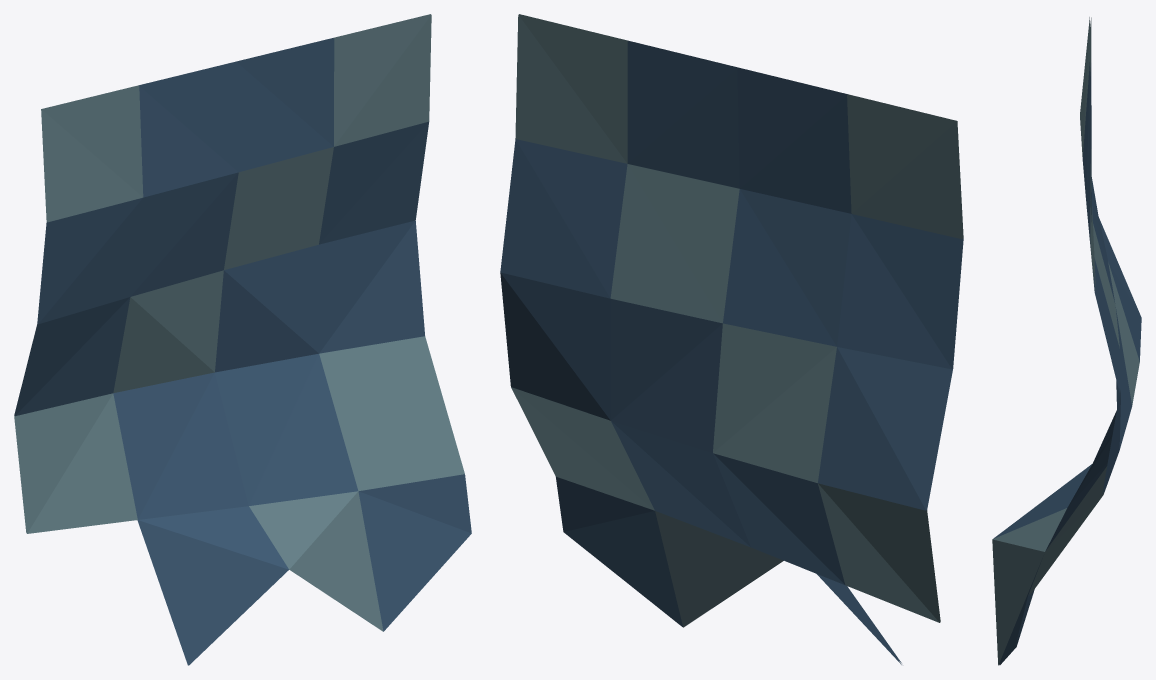
Rendered from plastic_flap_f1.glb.
3 renders of one model, left to right at view 1: azimuth 30°, elevation 25°; view 2: azimuth 150°, elevation 25°; view 3: azimuth 270°, elevation 25°, orthographic. The views are drawn at different scales.
Visible parts, largest first — view 1: plastic_flap_f1; view 2: plastic_flap_f1; view 3: plastic_flap_f1.
Part boxes in pixels (x1=…): plastic_flap_f1: x1=14, y1=14, x2=471, y2=665; plastic_flap_f1: x1=500, y1=14, x2=963, y2=664; plastic_flap_f1: x1=992, y1=17, x2=1141, y2=665.
Bounding box in the file's own units: 1.2 × 1.64 × 0.4278.
Materials: 2 (2 with a texture image).
